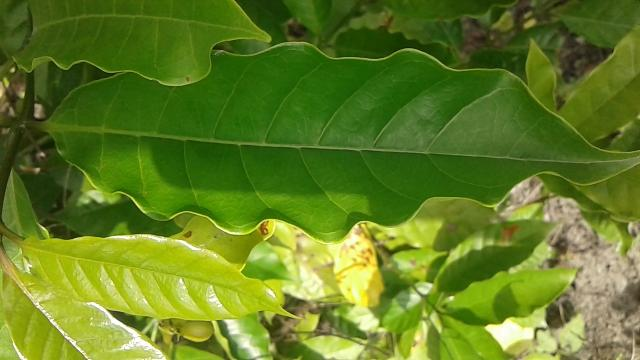healthy: (47, 39, 640, 245)
